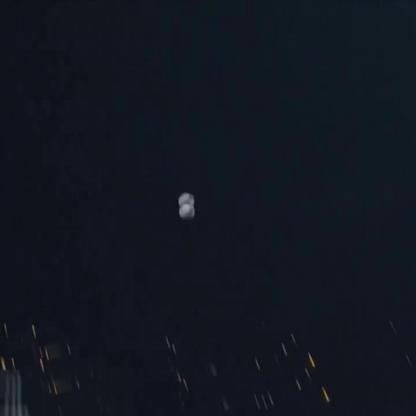ball: (176, 204, 201, 225), (172, 183, 200, 201)
